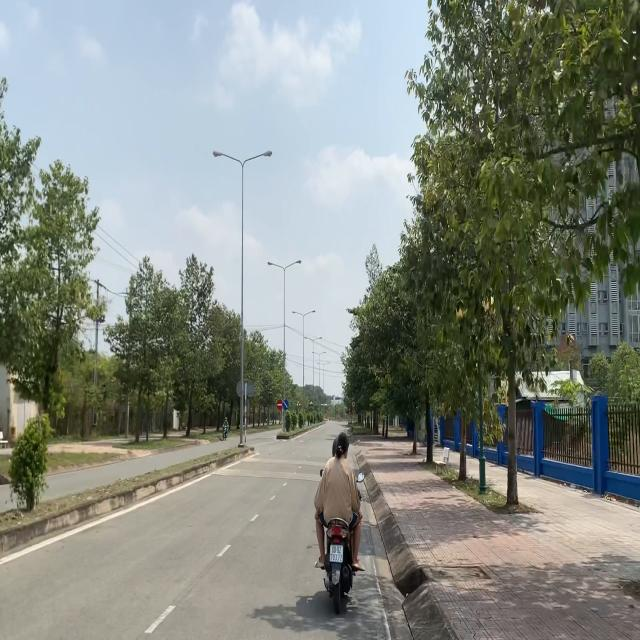Cam nguoc chieu: (277, 399, 282, 410)
Hieu lenh: (283, 399, 288, 410)
